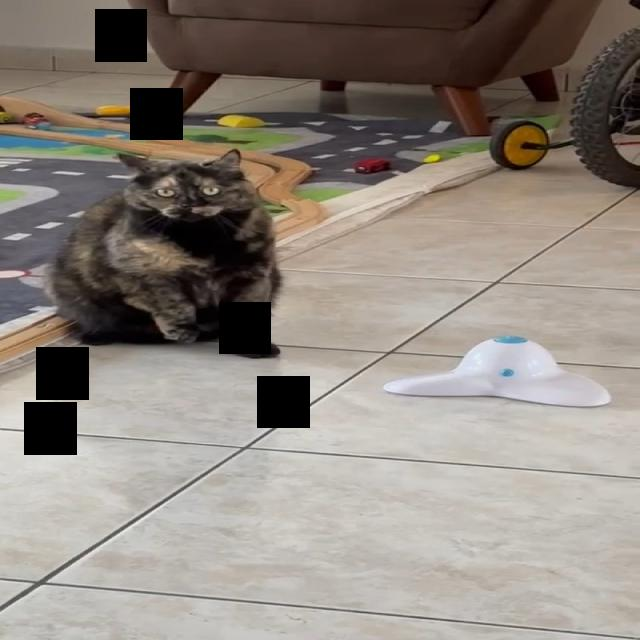authorized: (41, 148, 283, 358)
